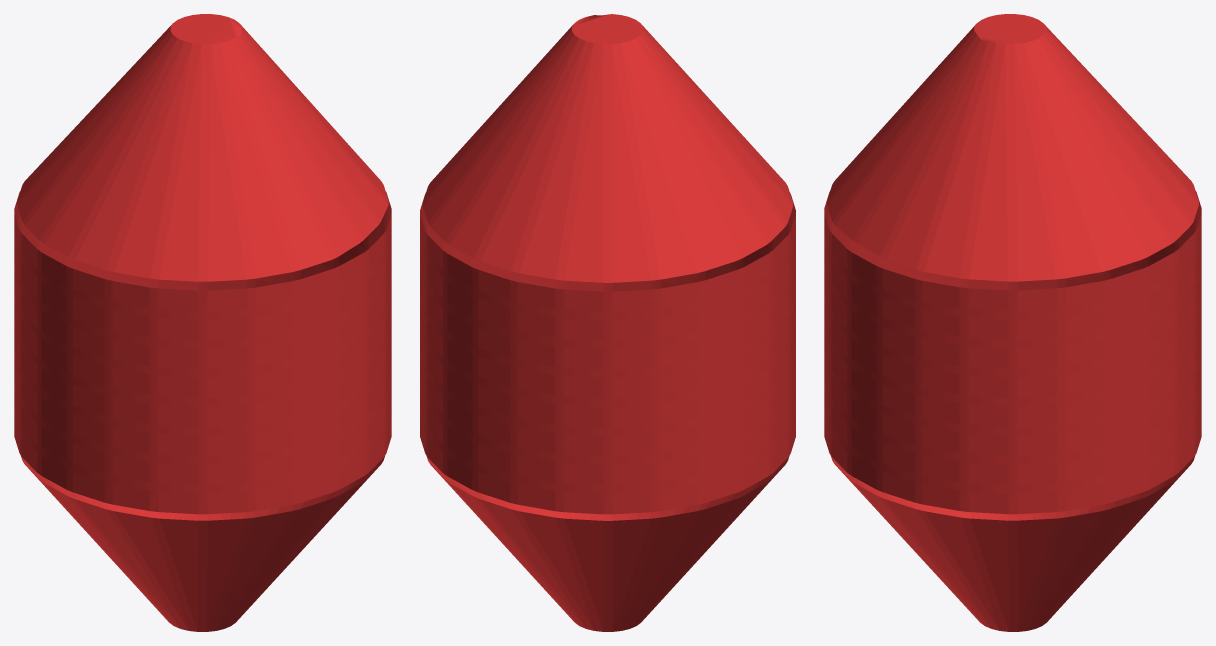
File: Буёк c4d.fbx
3 views of the same model, side by side, from view 1: azimuth 30°, elevation 25°; view 2: azimuth 150°, elevation 25°; view 3: azimuth 270°, elevation 25° (orthographic).
Parts seen in each view (by area): view 1: Объект_Цилиндр; view 2: Объект_Цилиндр; view 3: Объект_Цилиндр.
Boxes of the visible parts, left/top/right/bottom form: Объект_Цилиндр: left=14, top=14, right=391, bottom=631; Объект_Цилиндр: left=420, top=14, right=795, bottom=631; Объект_Цилиндр: left=824, top=14, right=1201, bottom=631.
Bounding box in the file's own units: 65.03 × 112 × 65.03.
